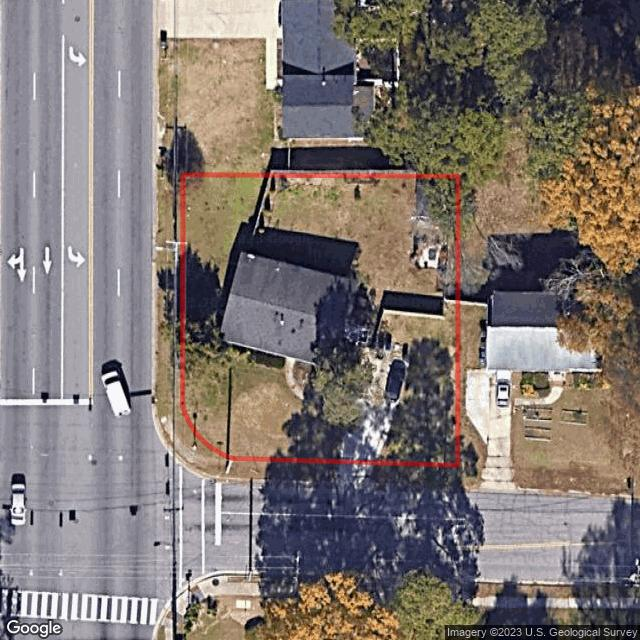Driveway: (284, 341, 411, 459)
House: (218, 249, 355, 368)
Other: (412, 239, 445, 268)
